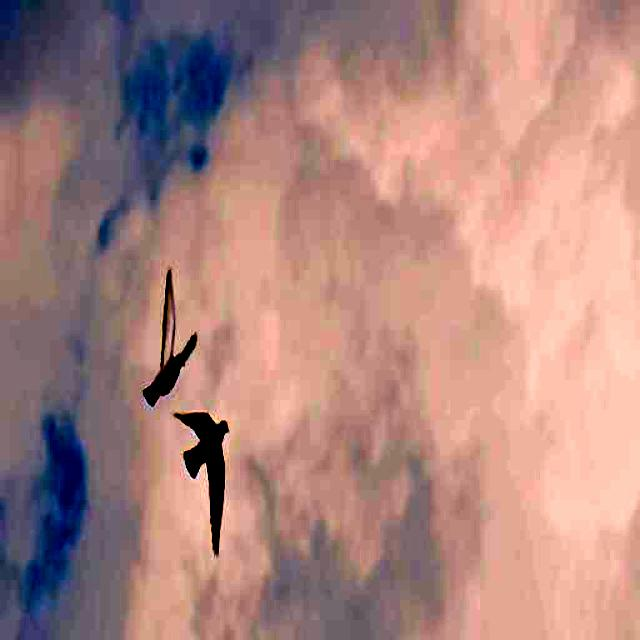airplane: (170, 392, 240, 579), (136, 241, 199, 412)
